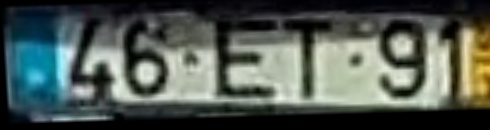1: (435, 18, 466, 102)
4: (66, 18, 119, 101)
6: (119, 16, 173, 100)
9: (377, 17, 430, 103)
E: (212, 17, 281, 101)
T: (282, 17, 340, 102)
